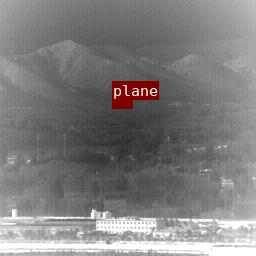plane: (112, 100, 132, 108)
